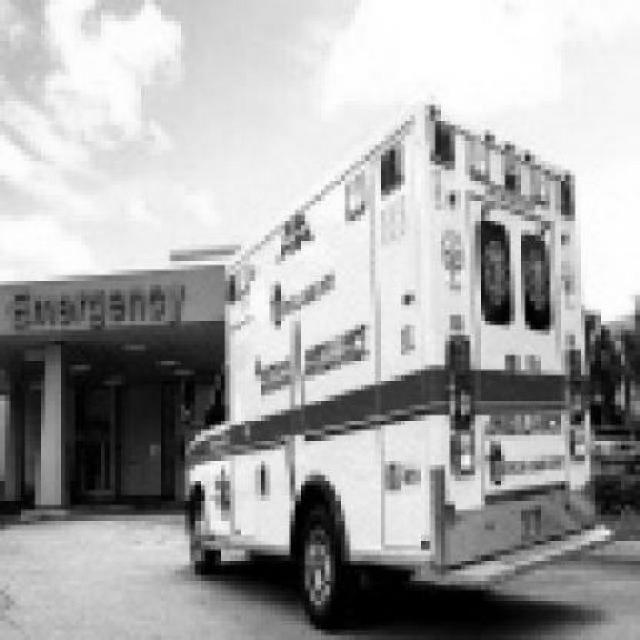Ambulance: (178, 103, 615, 632)
